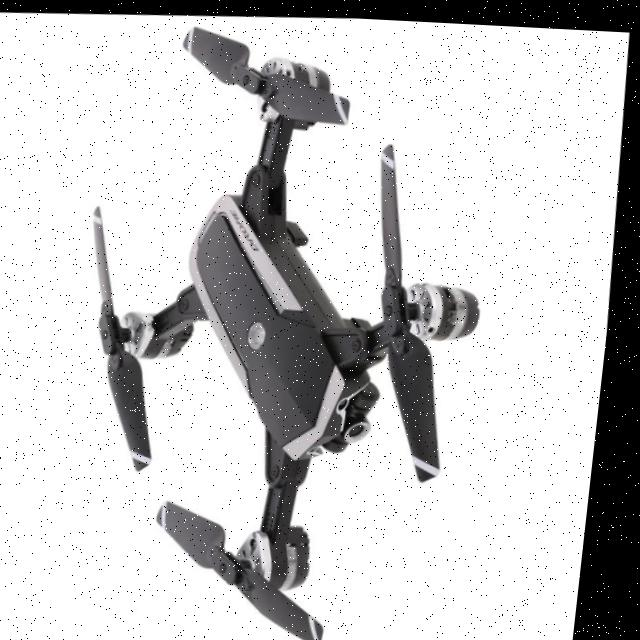drones: (43, 4, 538, 640)
